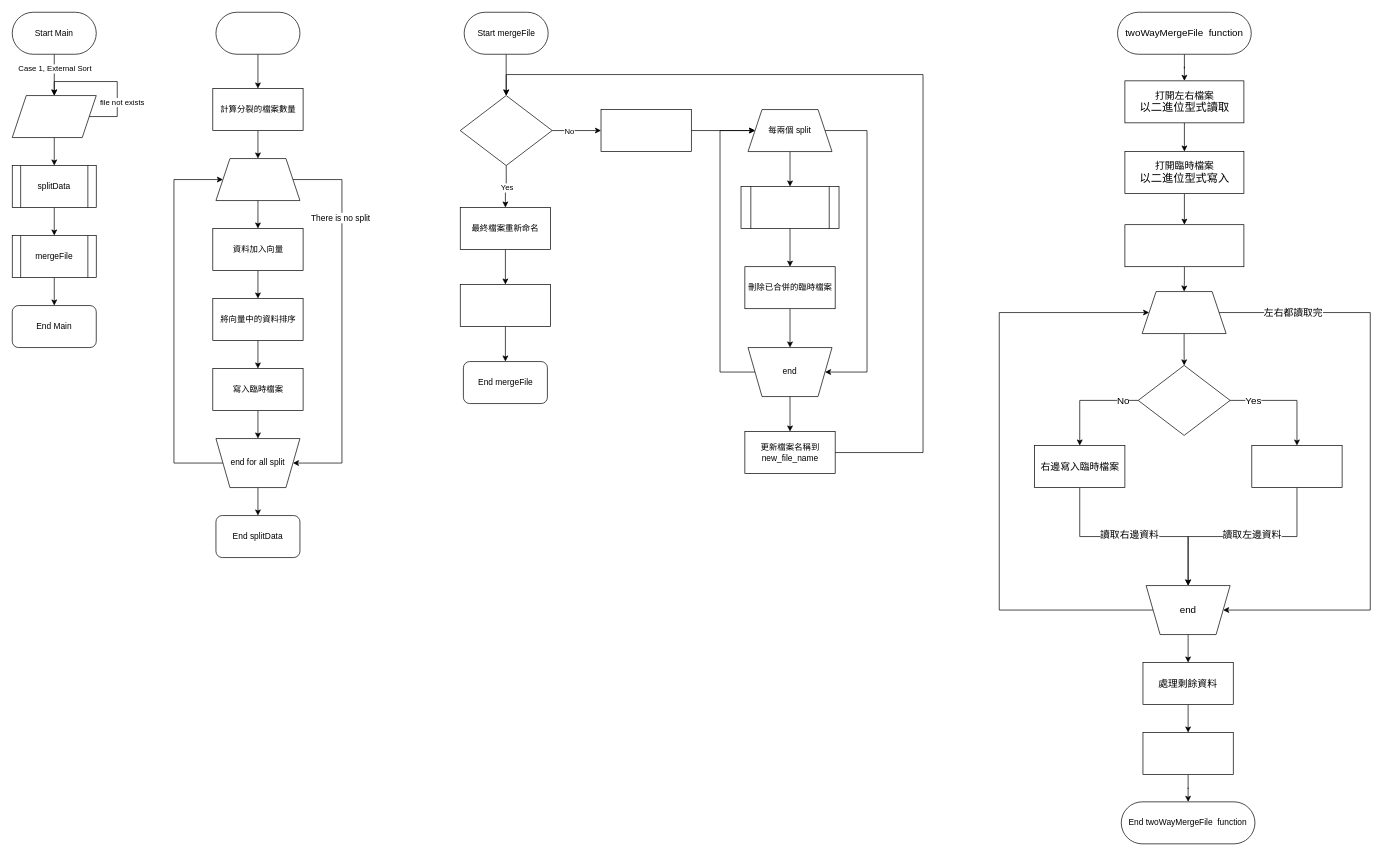
Some shapes in this 1388 by 856 pixel diagram are drawn without their labels. The centre of each missing label's shape, as x and y in pixels:
for all split: [257,179]
Input file name: [54,116]
Start splitData: [257,33]
twoWayMergeFile: [789,207]
初始化 new_file_name向量: [645,130]
刪除所有臨時檔案: [505,305]
左右各讀取一批資料: [1184,245]
左邊寫入臨時檔案: [1296,466]
左邊量權較大: [1184,400]
所有資料: [1183,312]
檔案全部合併?: [506,130]
關閉所有檔案: [1187,753]
